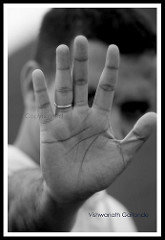palm: (33, 109, 125, 190)
